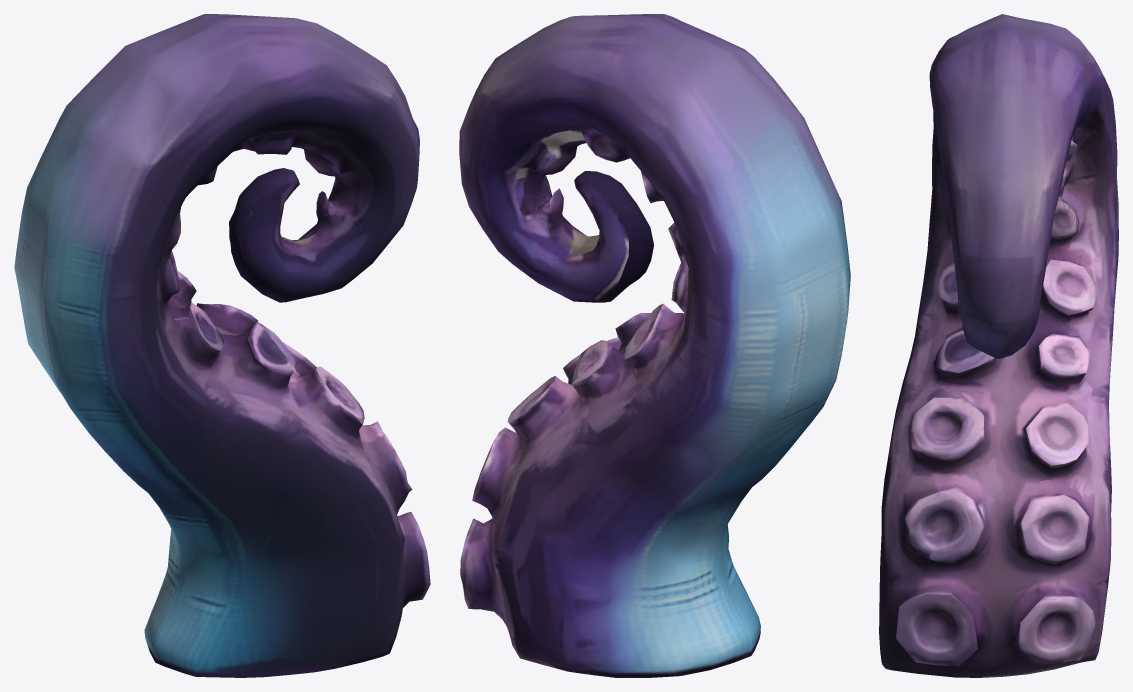
File: kraken.glb
The picture shows the model from 3 angles, left to right: view 1: azimuth 30°, elevation 25°; view 2: azimuth 150°, elevation 25°; view 3: azimuth 270°, elevation 25°; orthographic projection. The views are drawn at different scales.
Parts seen in each view (by area): view 1: Tentacle; view 2: Tentacle; view 3: Tentacle.
Boxes of the visible parts, x1=… form: Tentacle: x1=14, y1=14, x2=430, y2=677; Tentacle: x1=459, y1=14, x2=850, y2=677; Tentacle: x1=879, y1=14, x2=1118, y2=677.
Size of the model in its own units: 0.384 by 0.6 by 0.2213.
Materials: 1 (1 with a texture image).
